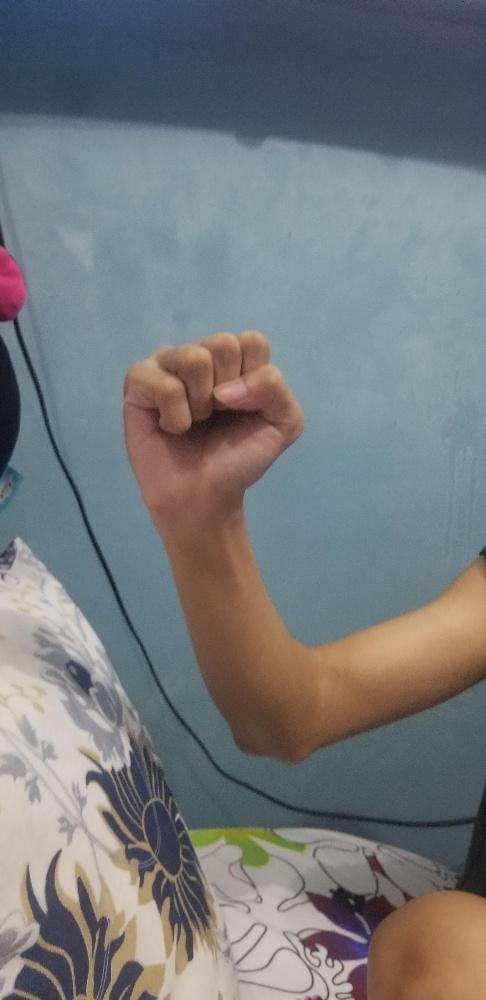s: (119, 326, 305, 514)
